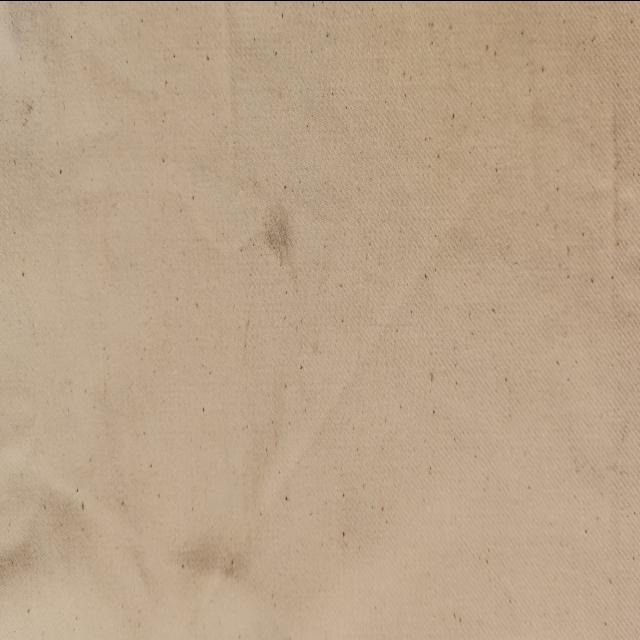taaaches: (166, 536, 258, 596), (258, 174, 298, 268)
